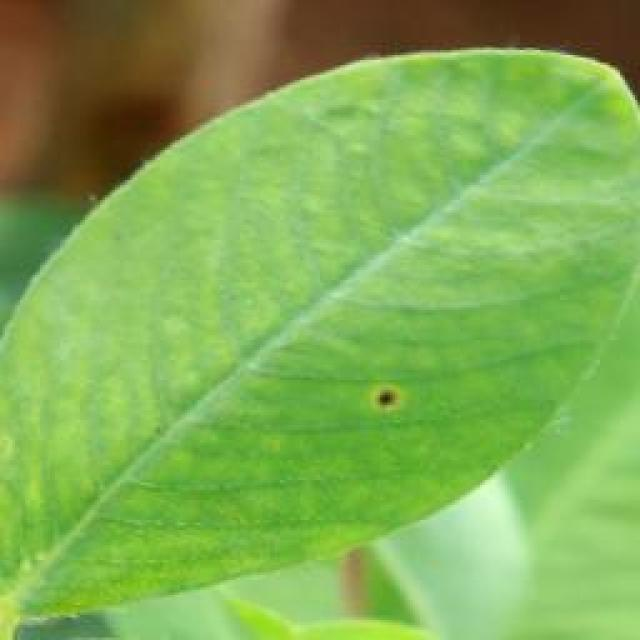Sigatoka: (365, 368, 426, 446)
